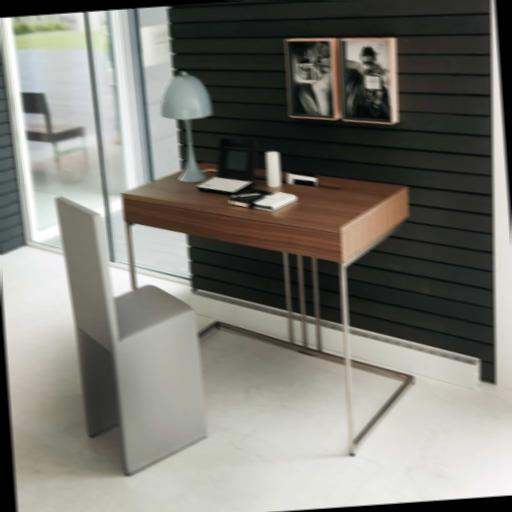chair: (54, 186, 210, 480)
desk: (120, 147, 428, 470)
wall: (167, 0, 512, 405)
